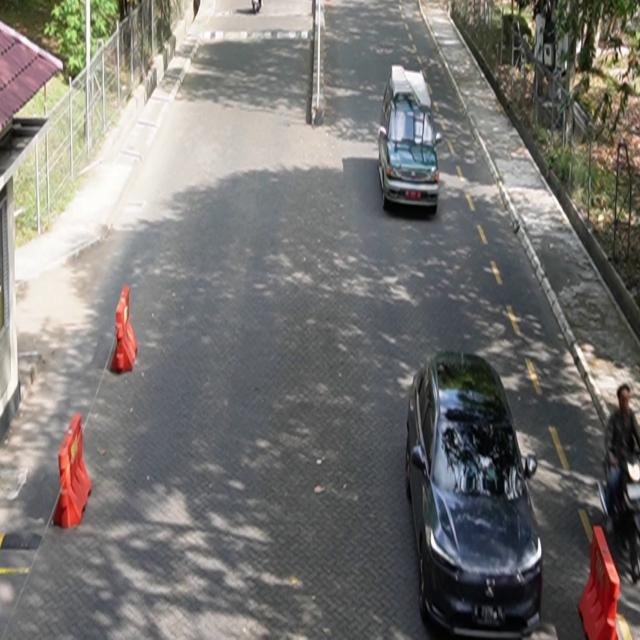car: (405, 351, 544, 640), (378, 65, 442, 216)
